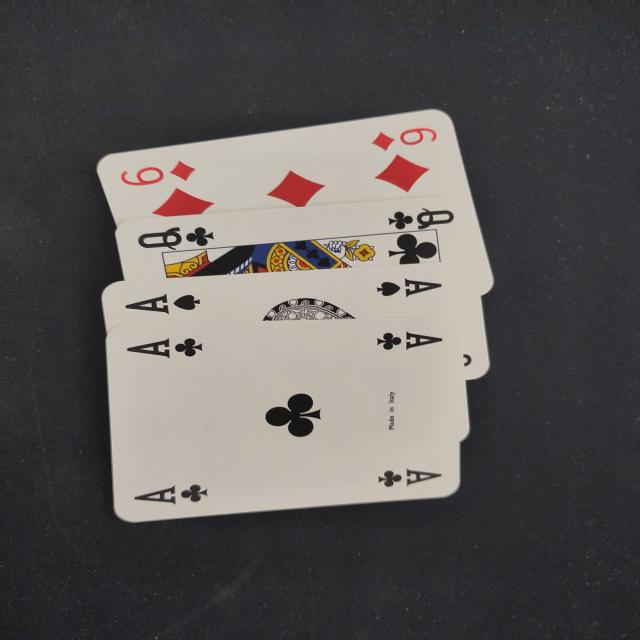6d: (112, 156, 203, 190), (358, 122, 446, 155)
Ac: (121, 331, 213, 369), (130, 476, 212, 514), (371, 464, 452, 494), (366, 326, 445, 356)
As: (119, 289, 207, 320), (366, 275, 450, 302)
Qc: (127, 220, 223, 256), (380, 204, 461, 237)
